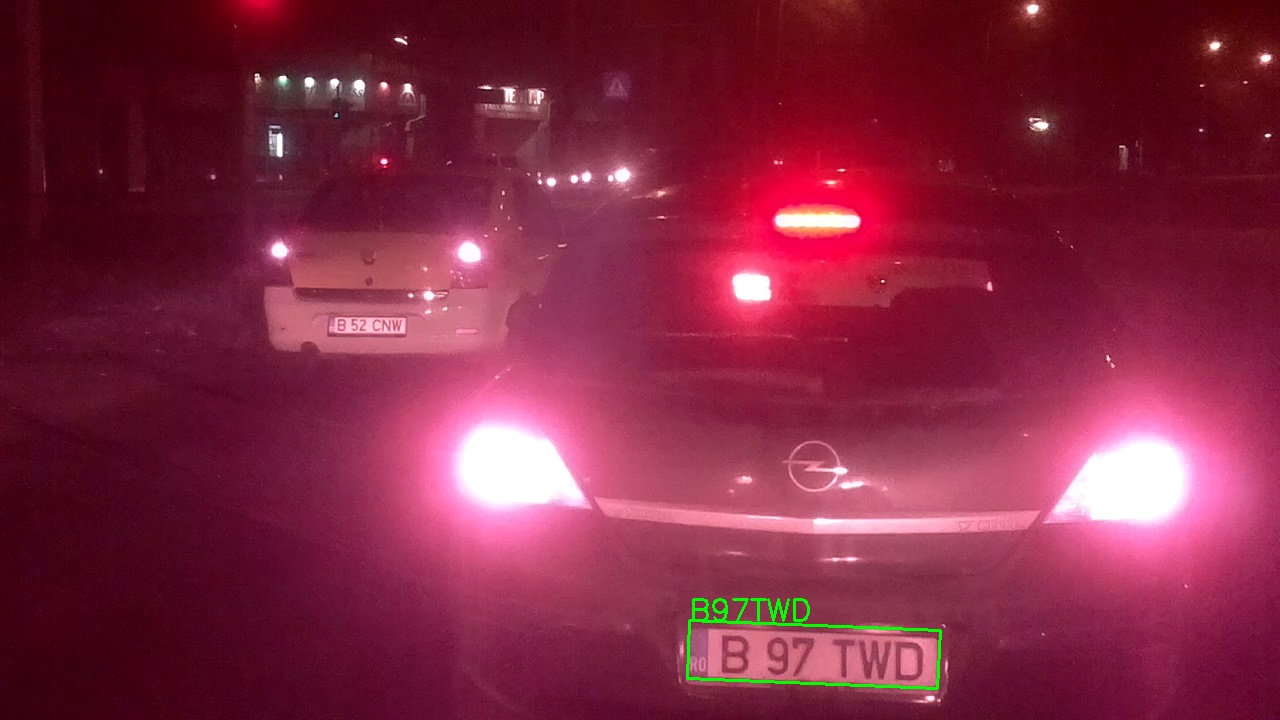license-plate: (687, 620, 941, 689)
